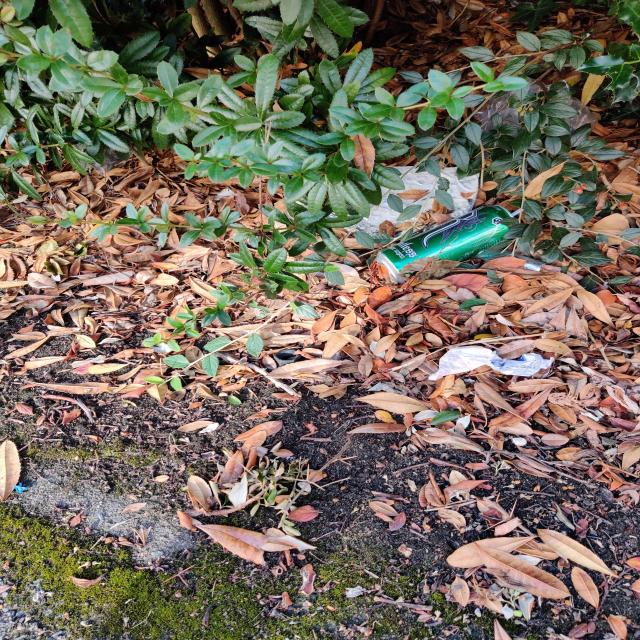litter: (13, 480, 29, 494)
